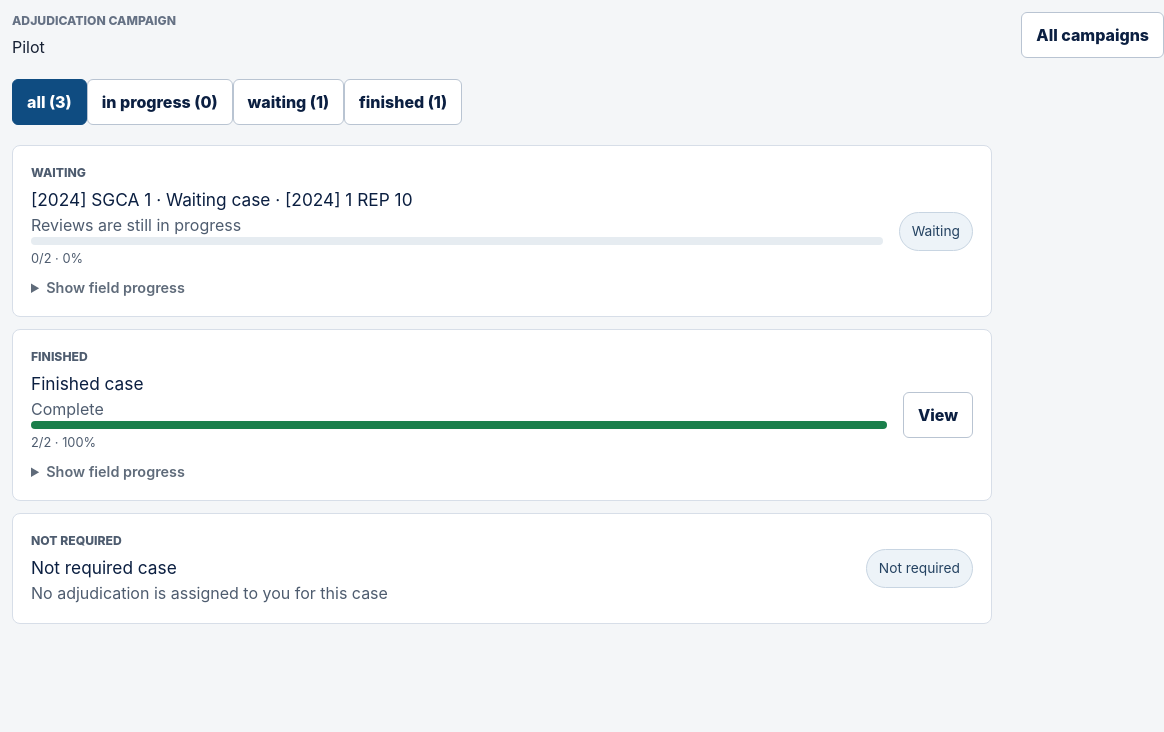
Test case: AdjudicationCampaignCasesPage › shows not-required cases under All without adding a separate tab
Check: the heading "Pilot" is shown, box [12,37,45,57]
Check: the heading "[2024] SGCA 1 · Waiting case · [2024] 1 REP 10" is shown, box [31,190,412,210]
Click the heading "Show field progress" below "Reviews are still in progress": [108, 287] box [31,277,185,298]
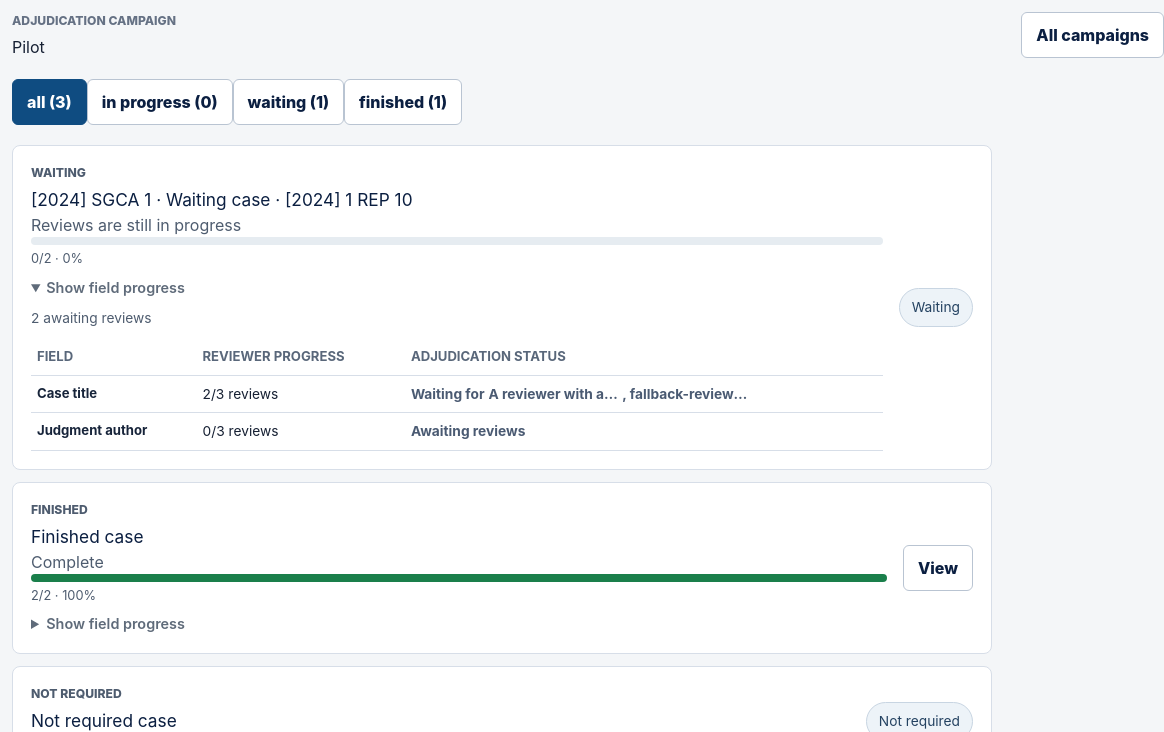
Check: the column heading "Reviewer progress" is shown, box [196,339,405,375]
Check: the text "2/3 reviews" is shown, box [196,375,405,413]
Check: the text "Awaiting reviews" is shown, box [411,423,525,439]
